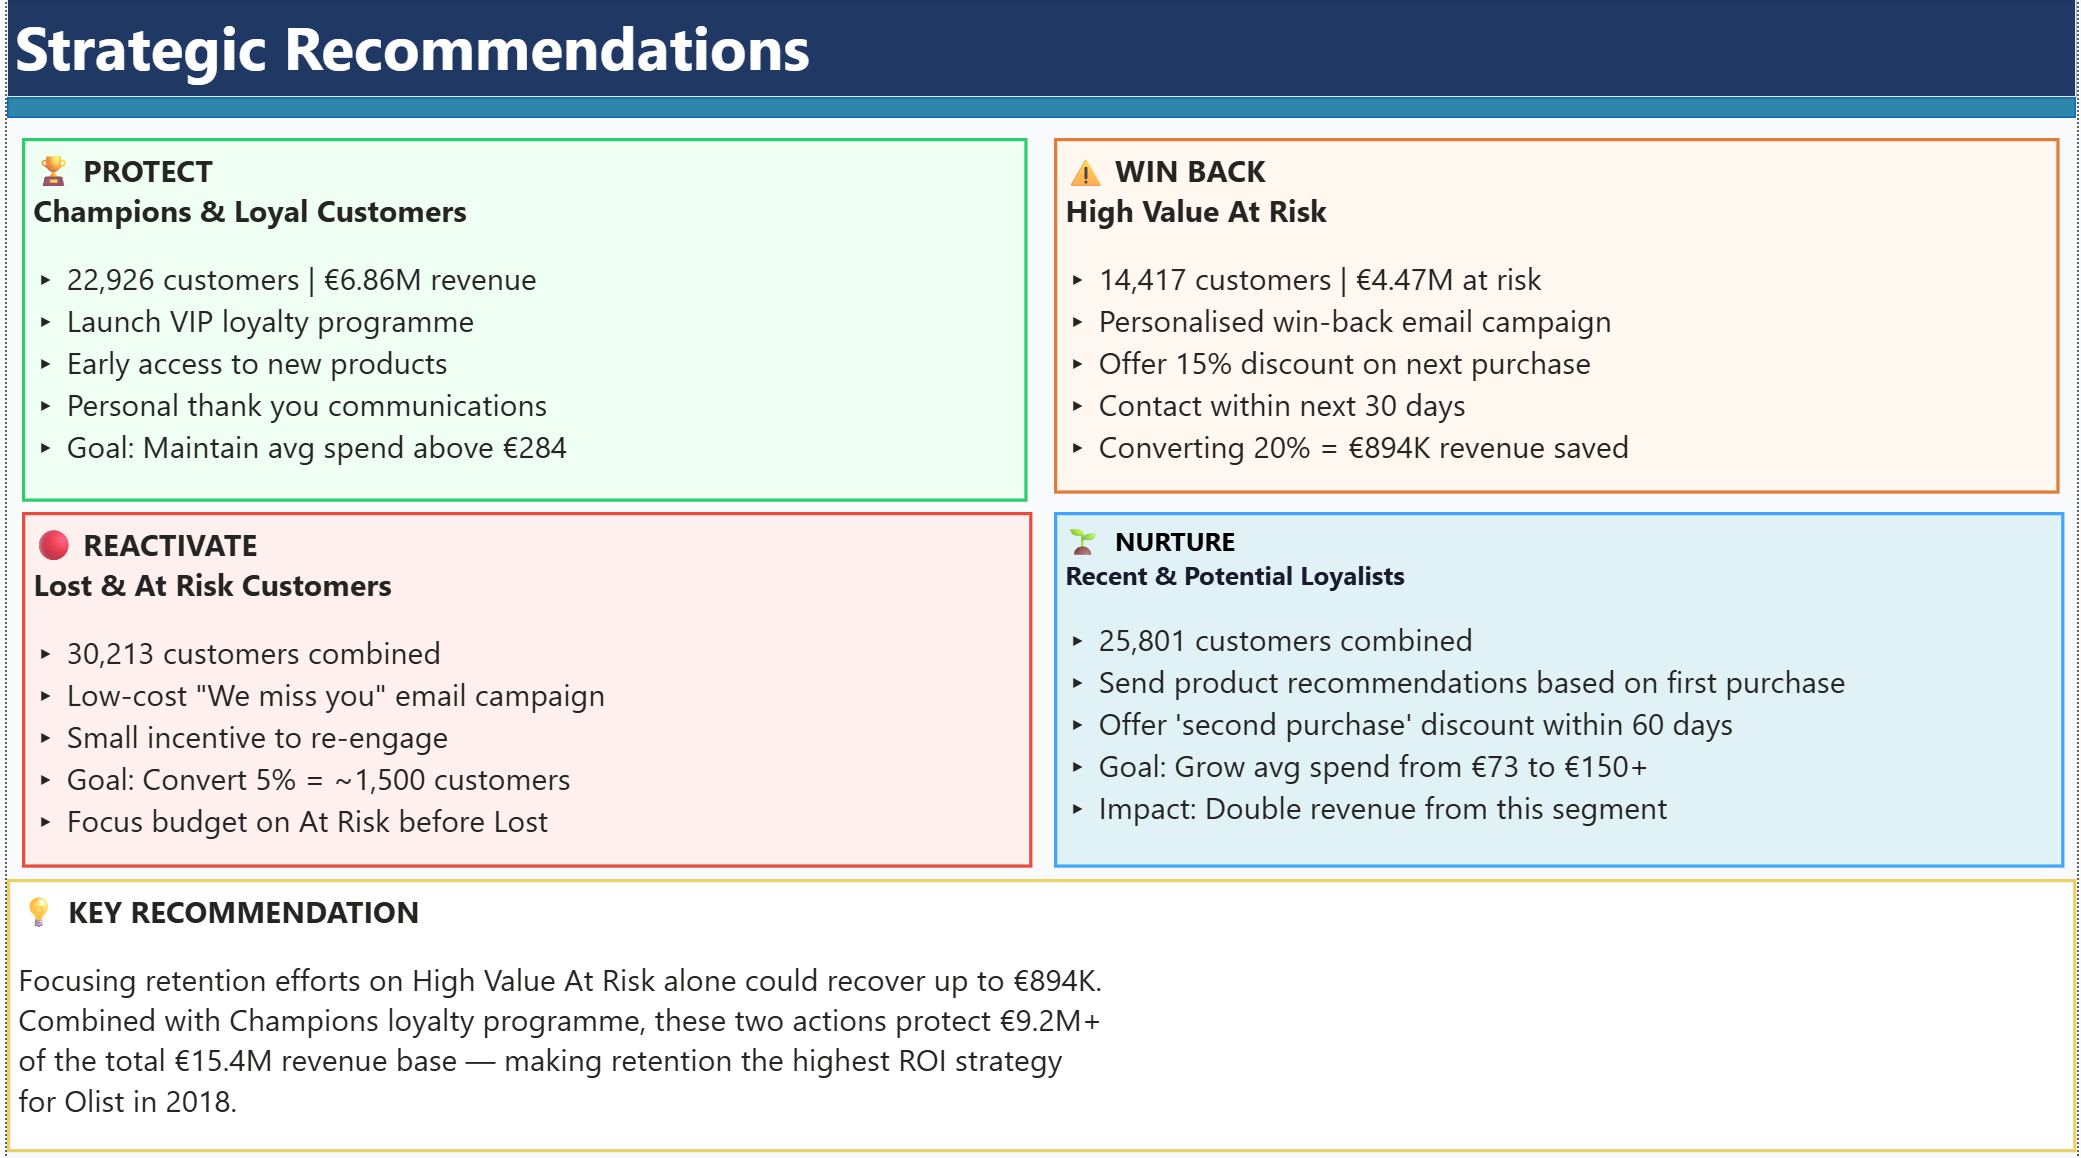

What the dashboard file says about the page in this screenshot:
{"tool":"powerbi","page":{"name":"Recommendations","canvas":[1280,720],"ordinal":2},"visuals":[{"type":"textbox","box":[0,0,1279.8,61.9],"z":0},{"type":"shape","box":[0,61.9,1279.8,13],"z":1000},{"type":"textbox","box":[9.3,87.2,622.3,225.2],"z":2000},{"type":"textbox","box":[647.6,87.2,622.3,220.2],"z":3000},{"type":"textbox","box":[9.3,318.6,624.7,220.2],"z":4000},{"type":"textbox","box":[0,545.6,1279.8,169.5],"z":5000},{"type":"textbox","box":[647.6,318.6,624.7,220.2],"z":6000}]}

Visuals, with their boxes in screenshot pixels (x1, y1, x2, y2), scaled from the page's 1280x720 canvas onto the 2081x1158 screenshot:
textbox: left=0, top=0, right=2080, bottom=100
shape: left=0, top=100, right=2080, bottom=120
textbox: left=15, top=140, right=1027, bottom=502
textbox: left=1053, top=140, right=2065, bottom=494
textbox: left=15, top=512, right=1031, bottom=867
textbox: left=0, top=878, right=2080, bottom=1150
textbox: left=1053, top=512, right=2068, bottom=867
